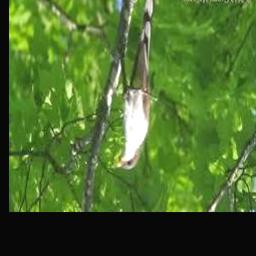Cuckoo: (117, 0, 156, 169)
